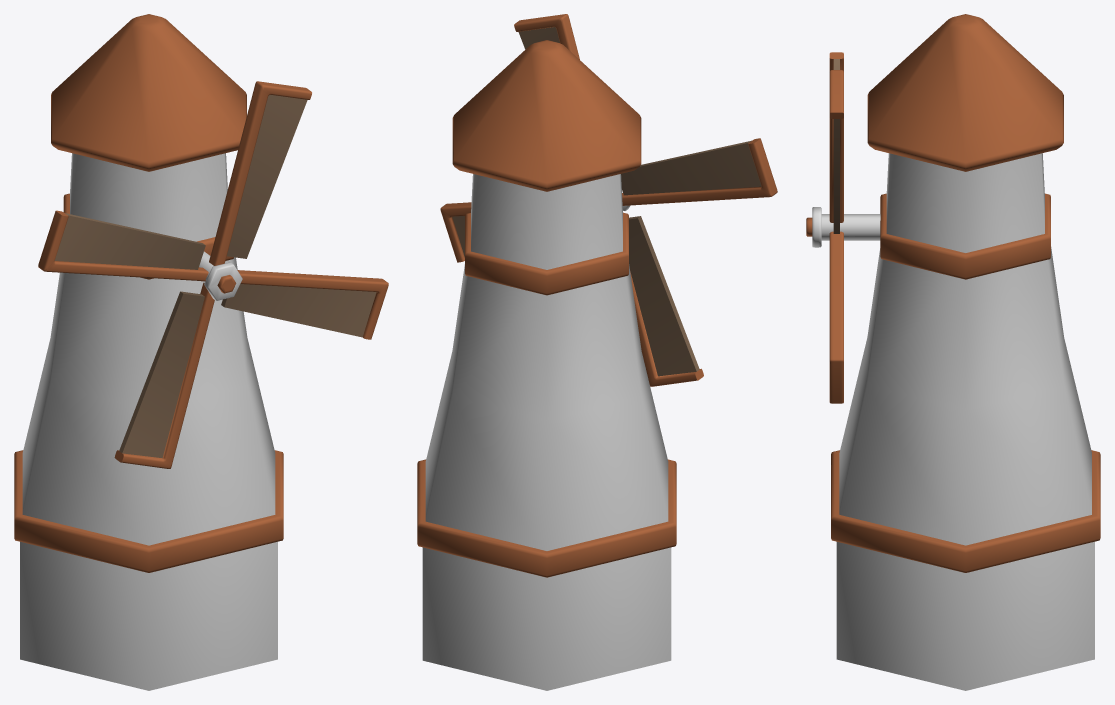
Rendered from Windmil.fbx.
The picture shows the model from 3 angles, left to right: view 1: azimuth 30°, elevation 25°; view 2: azimuth 150°, elevation 25°; view 3: azimuth 270°, elevation 25°; orthographic projection. The views are drawn at different scales.
Visible parts, largest first — view 1: Windmil_Main, Windmil_Blades; view 2: Windmil_Main, Windmil_Blades; view 3: Windmil_Main, Windmil_Blades.
Part boxes in pixels (x1=…): Windmil_Main: x1=14, y1=14, x2=283, y2=690; Windmil_Blades: x1=38, y1=81, x2=388, y2=468; Windmil_Main: x1=417, y1=40, x2=676, y2=690; Windmil_Blades: x1=440, y1=14, x2=777, y2=386; Windmil_Main: x1=806, y1=14, x2=1100, y2=690; Windmil_Blades: x1=829, y1=52, x2=843, y2=403.
Bounding box in the file's own units: 3323 × 5601 × 2453.
